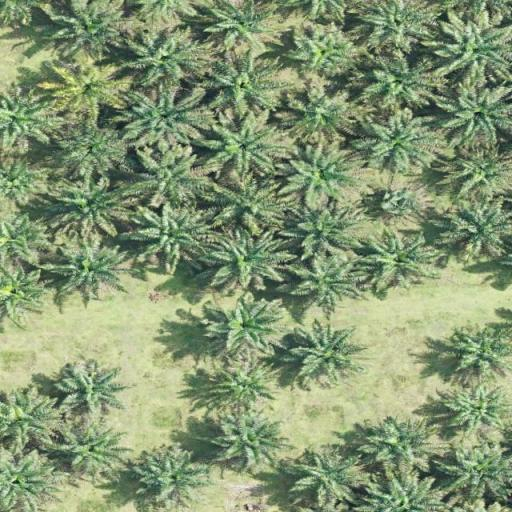Ganoderma: (54, 70, 118, 109)
